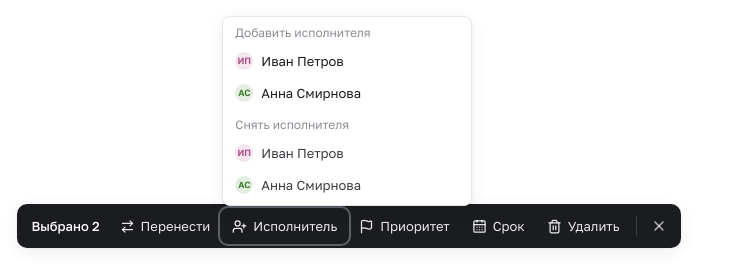
bulk bar › assigns, unassigns, sets priority and due date, or removes the date
Earlier steps of the test are not shown.
Later steps or results of the test are not shown.
Step 1. Click the 1st menu item "АС Анна Смирнова" → {"x": 347, "y": 93}, box [227, 77, 467, 109]
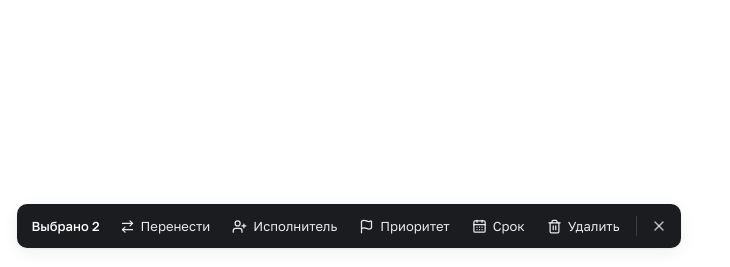
Step 2. Click the button "Исполнитель" → {"x": 285, "y": 226}, box [222, 210, 347, 242]
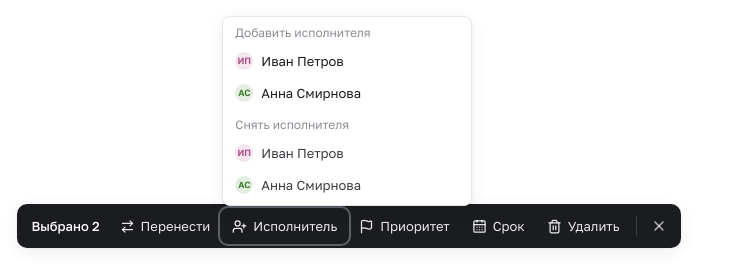
Step 3. Click the 2nd menu item "АС Анна Смирнова" → {"x": 347, "y": 185}, box [227, 169, 467, 201]
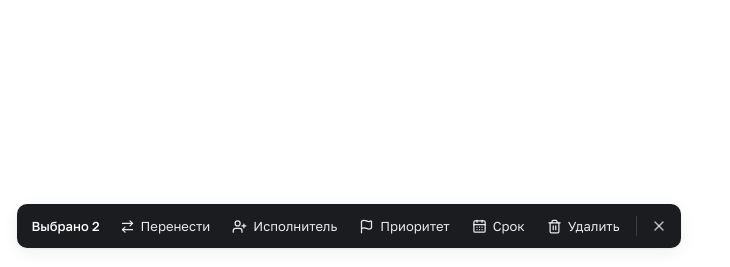
Step 4. Click the button "Приоритет" → {"x": 404, "y": 226}, box [349, 210, 460, 242]
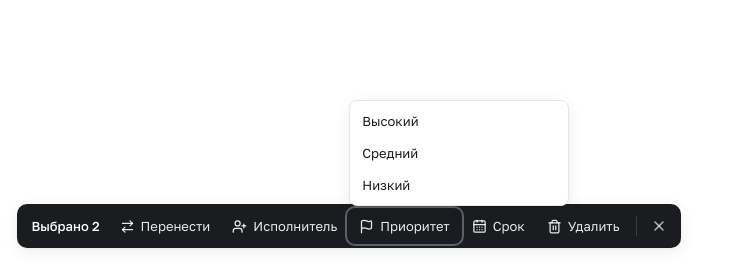
Step 5. Click the menu item "Высокий" → {"x": 444, "y": 121}, box [354, 105, 534, 137]
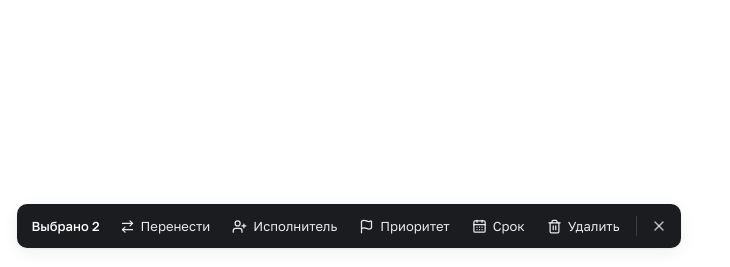
Step 6. Click the button "Срок" → {"x": 498, "y": 226}, box [462, 210, 535, 242]
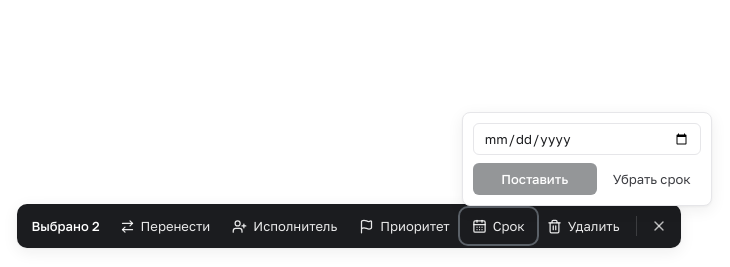
Now the button "Поставить" is disabled, box [473, 163, 597, 195]
